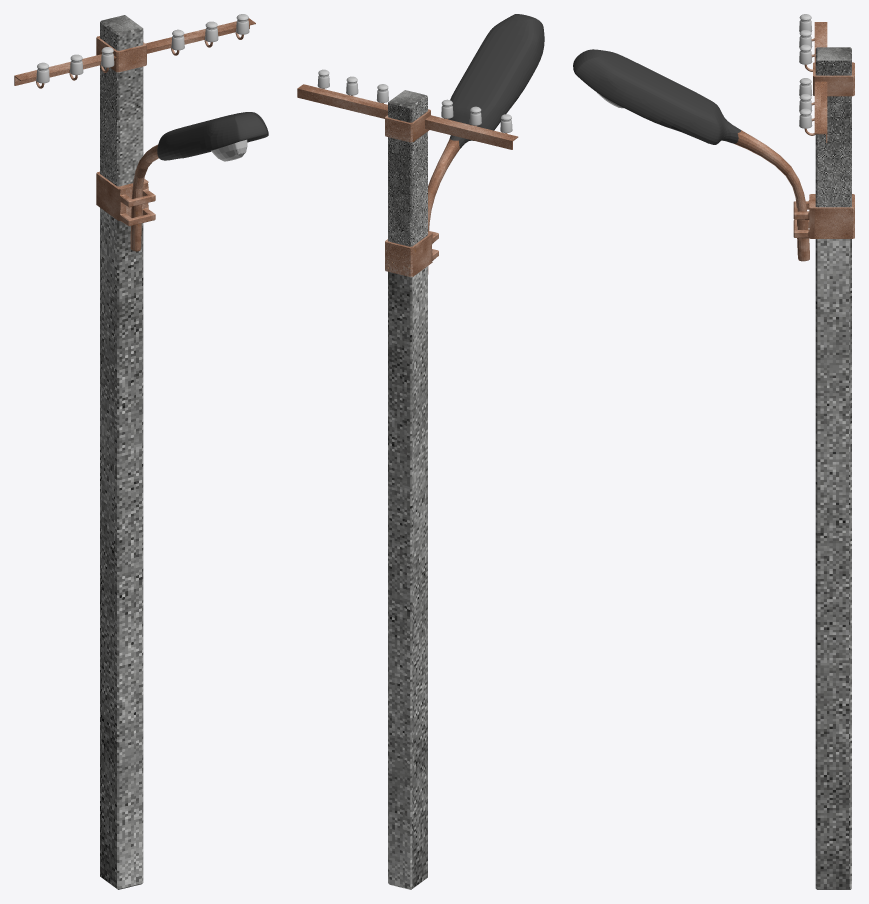
Rendered from ukitFanar.obj.
3 renders of one model, left to right at view 1: azimuth 30°, elevation 25°; view 2: azimuth 150°, elevation 25°; view 3: azimuth 270°, elevation 25°, orthographic. The views are drawn at different scales.
Visible parts, largest first — view 1: Cube.004, Cube.001, Cube.005, Cube; view 2: Cube.004, Cube.001, Cube.005, Cube; view 3: Cube.004, Cube.001, Cube, Cube.005.
Boxes of the visible parts, x1,y1,x2,y2 form: Cube.004: (100, 15, 143, 889); Cube.001: (130, 112, 268, 251); Cube.005: (14, 18, 255, 85); Cube: (96, 171, 155, 226); Cube.004: (388, 90, 427, 889); Cube.001: (428, 14, 544, 274); Cube.005: (297, 84, 518, 149); Cube: (385, 231, 438, 277); Cube.004: (815, 47, 851, 889); Cube.001: (573, 49, 809, 261); Cube: (793, 194, 854, 238); Cube.005: (813, 22, 854, 142).
Bounding box in the file's own units: 16.54 × 57.62 × 17.69.
